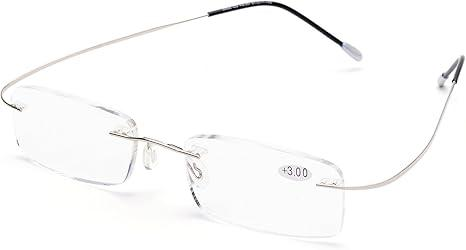spectacles: (0, 50, 449, 247)
